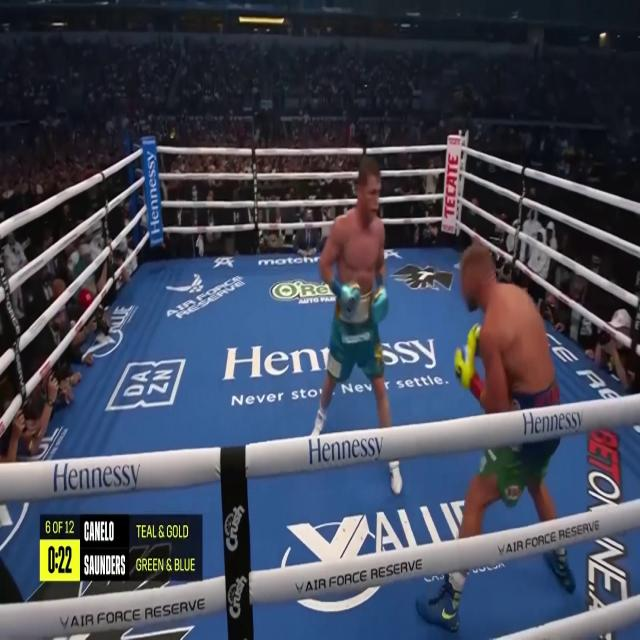boxer_1: (462, 238, 555, 390)
boxer_2: (339, 159, 387, 296)
gloves_1: (455, 324, 484, 400)
gloves_2: (329, 276, 359, 318), (372, 276, 390, 321)
